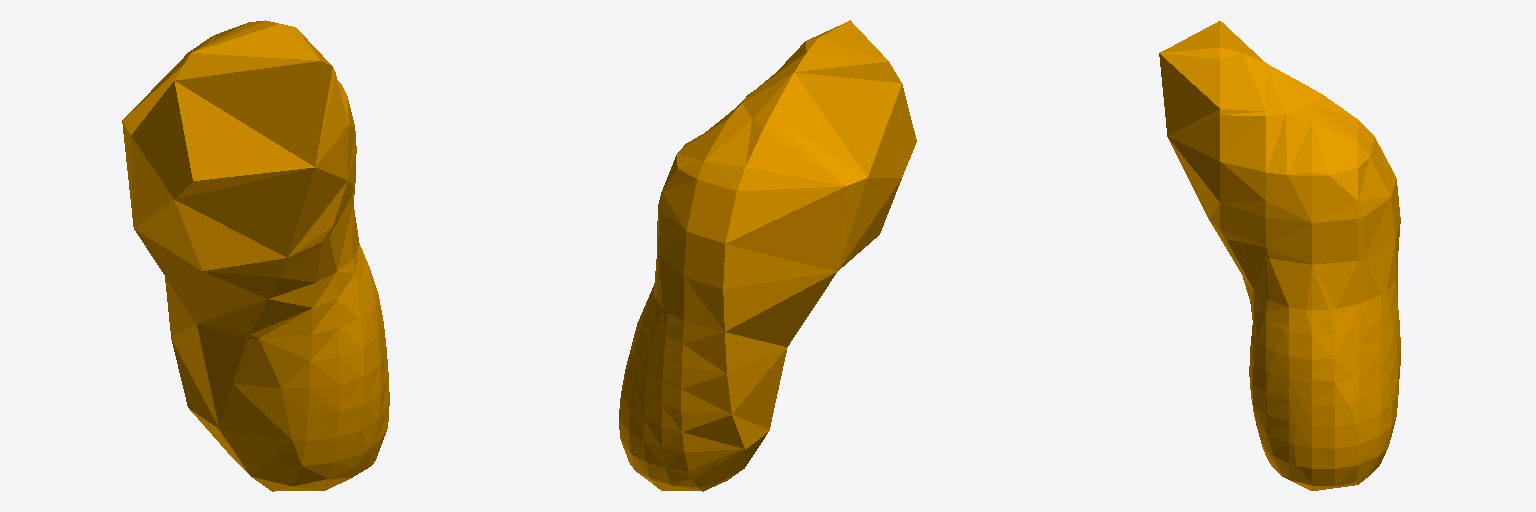
The robot description file, URDF, robot "041_small_marker":
<?xml version="1.0" ?>
<robot name="041_small_marker">
  <link name="base_link">
    <inertial>
      <mass value="0.005302919523866576"/>
      <origin rpy="-2.77368 -0.16277 -0.44693" xyz="-0.00964  0.00019  0.0375"/>
      <inertia ixx="2.5071882503516994e-06" ixy="1.876527063729356e-23" ixz="4.807002815477051e-22" iyy="2.439117070584436e-06" iyz="-1.5156524998791975e-22" izz="6.290244494970608e-07"/>
    </inertial>
    <collision name="041_small_marker__collision">
      <origin rpy="0 0 0" xyz="0 0 0"/>
      <geometry>
        <mesh filename="./041_small_marker_250_collision.stl" scale="1.0 1.0 1.0"/>
      </geometry>
    </collision>
    <visual name="041_small_marker__visual">
      <origin rpy="0 0 0" xyz="0 0 0"/>
      <geometry>
        <mesh filename="./textured.obj" scale="1.0 1.0 1.0"/>
      </geometry>
    </visual>
  </link>
</robot>

--- Facts derived from the render (not from the file) ---
Views: 3 orthographic renders of the robot side by side, from view 1: azimuth 30°, elevation 25°; view 2: azimuth 150°, elevation 25°; view 3: azimuth 270°, elevation 25°.
Model 041_small_marker with 1 links and 0 joints (none), rooted at base_link, posed every joint at zero.
Visible links, largest first — view 1: base_link; view 2: base_link; view 3: base_link.
Boxes of the visible links, x1,y1,x2,y2 form: base_link: (122,20,389,491); base_link: (619,20,916,491); base_link: (1159,21,1400,490).
Size in the robot's own frame: 0.0428 by 0.0432 by 0.0799 metres.
1 mesh visuals loaded from 1 distinct referenced files (1 OBJ).